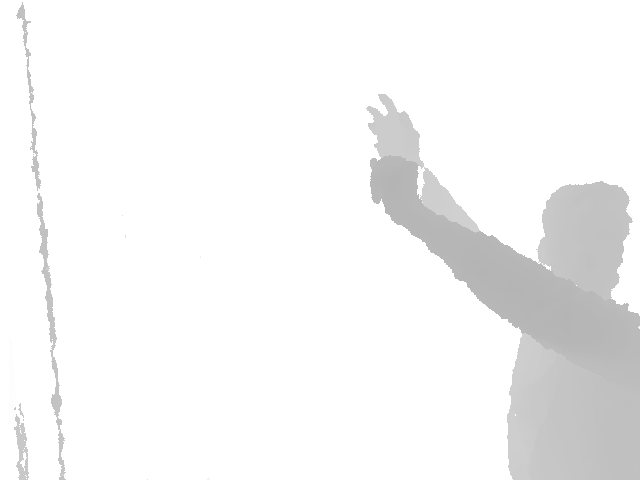hand: (366, 92, 424, 174), (368, 157, 419, 220)
head: (537, 181, 631, 306)
person: (366, 92, 640, 480)
